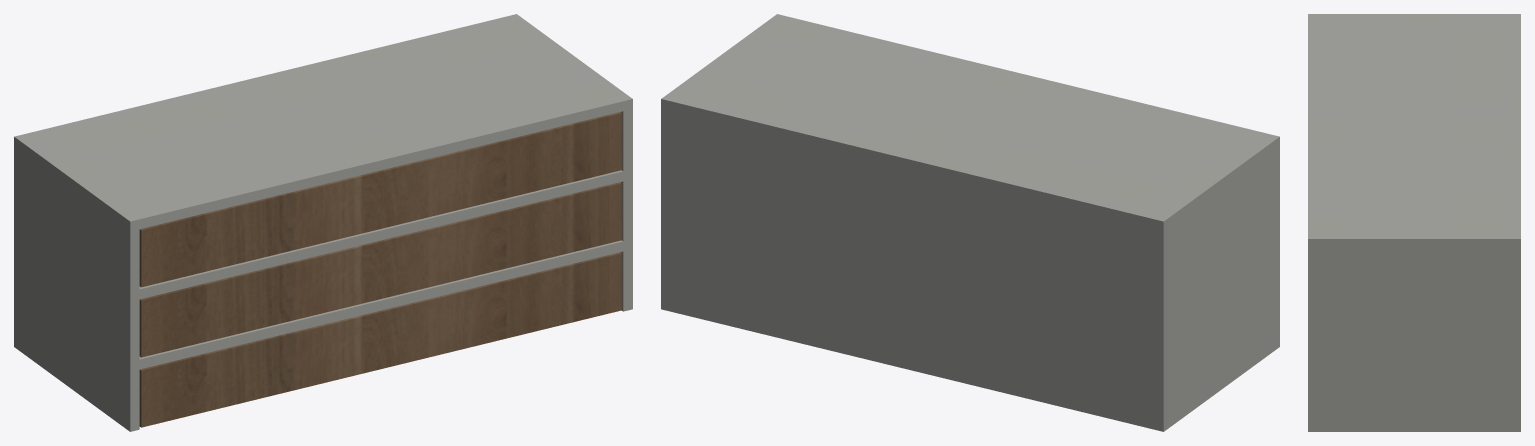
Rendered from meublep.glb.
3 renders of one model, left to right at view 1: azimuth 30°, elevation 25°; view 2: azimuth 150°, elevation 25°; view 3: azimuth 270°, elevation 25°, orthographic. The views are drawn at different scales.
Parts seen in each view (by area): view 1: world; view 2: world; view 3: world.
Boxes of the visible parts, box(x1,y1,x2,y2) form: world: box(14, 14, 632, 431); world: box(661, 14, 1279, 431); world: box(1308, 14, 1520, 431).
Size of the model in its own units: 1 by 0.4 by 0.4.
Materials: 1 (1 with a texture image).
